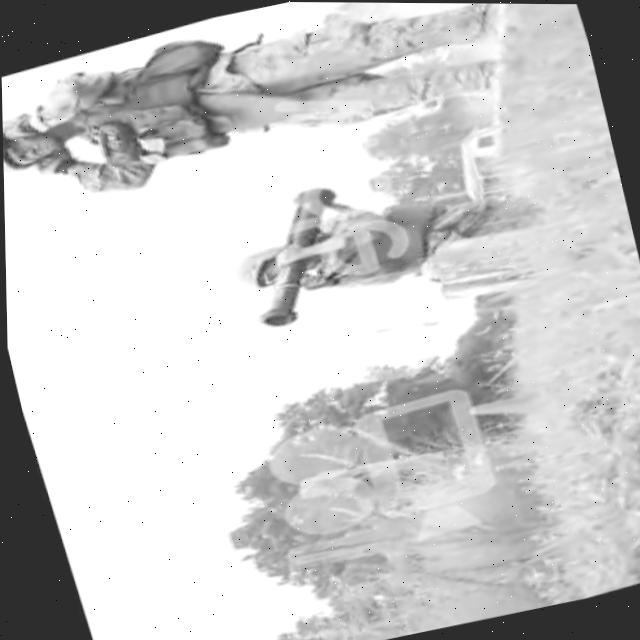rocket: (217, 181, 370, 337)
